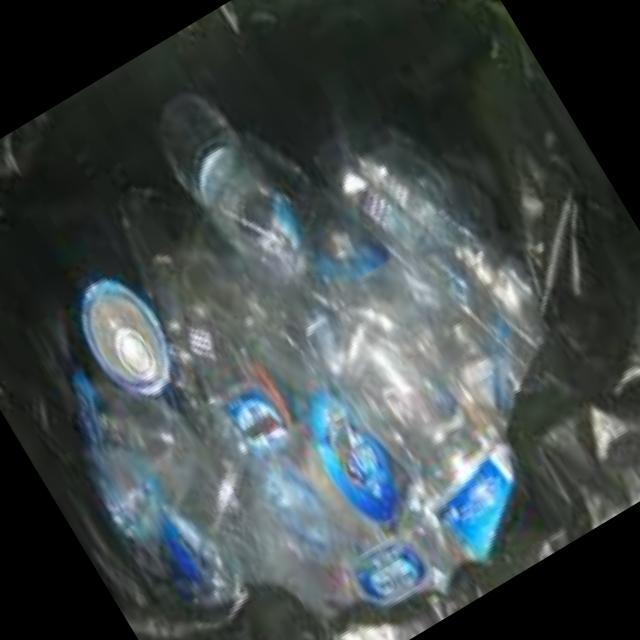GelasPlastik: (280, 362, 426, 534), (58, 256, 192, 410), (331, 517, 448, 631), (202, 354, 309, 470), (248, 448, 348, 563)
